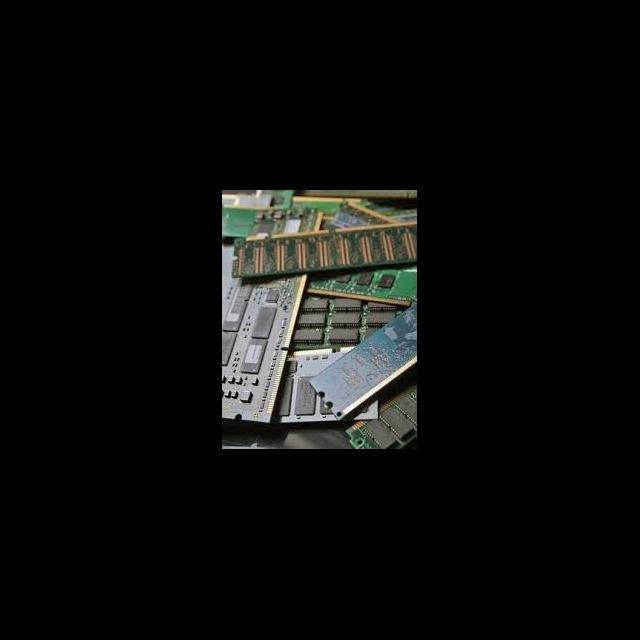metal: (303, 294, 417, 422), (228, 220, 417, 278), (342, 368, 416, 448)
